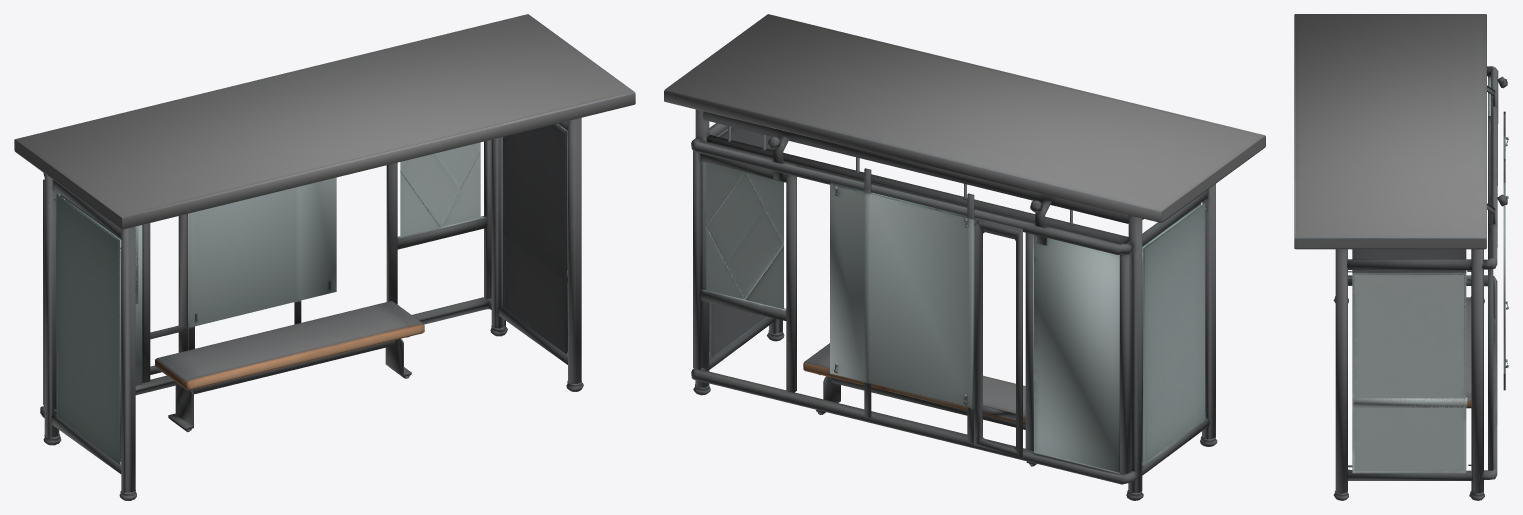
The model's file is bus_stop.glb.
3 renders of one model, left to right at view 1: azimuth 30°, elevation 25°; view 2: azimuth 150°, elevation 25°; view 3: azimuth 270°, elevation 25°, orthographic. The views are drawn at different scales.
Parts seen in each view (by area): view 1: tripo_node_1f4d1eb4-7eaf-46af-8bd5-0bd92ca1cb0c; view 2: tripo_node_1f4d1eb4-7eaf-46af-8bd5-0bd92ca1cb0c; view 3: tripo_node_1f4d1eb4-7eaf-46af-8bd5-0bd92ca1cb0c.
Boxes of the visible parts, x1=… form: tripo_node_1f4d1eb4-7eaf-46af-8bd5-0bd92ca1cb0c: x1=14, y1=14, x2=635, y2=500; tripo_node_1f4d1eb4-7eaf-46af-8bd5-0bd92ca1cb0c: x1=664, y1=14, x2=1265, y2=500; tripo_node_1f4d1eb4-7eaf-46af-8bd5-0bd92ca1cb0c: x1=1294, y1=14, x2=1508, y2=500.
Bounding box in the file's own units: 3 × 1.72 × 1.22.
1 material, 1 textured.
